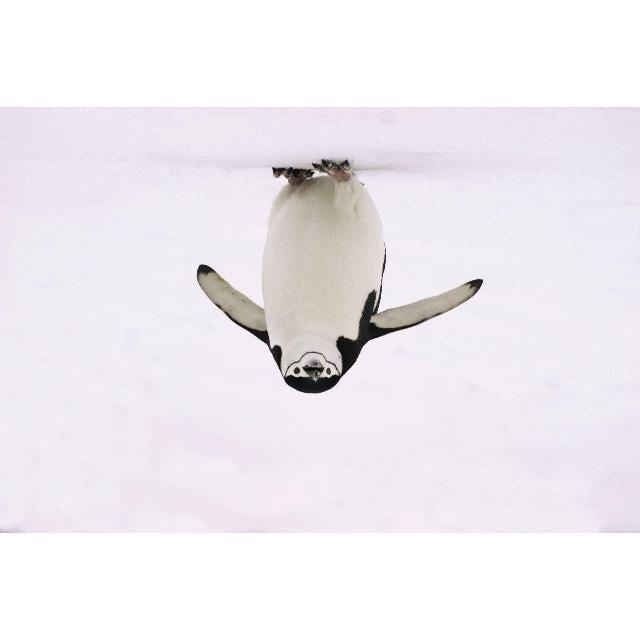penguin: (195, 158, 486, 395)
